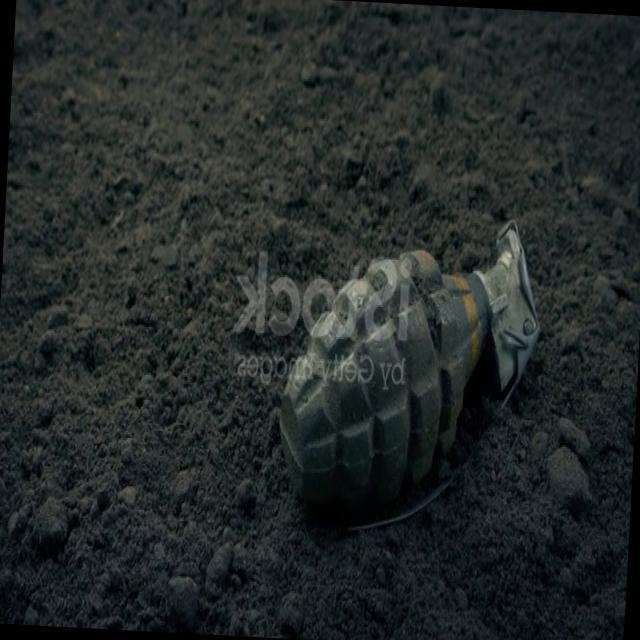grenade: (269, 215, 547, 542)
